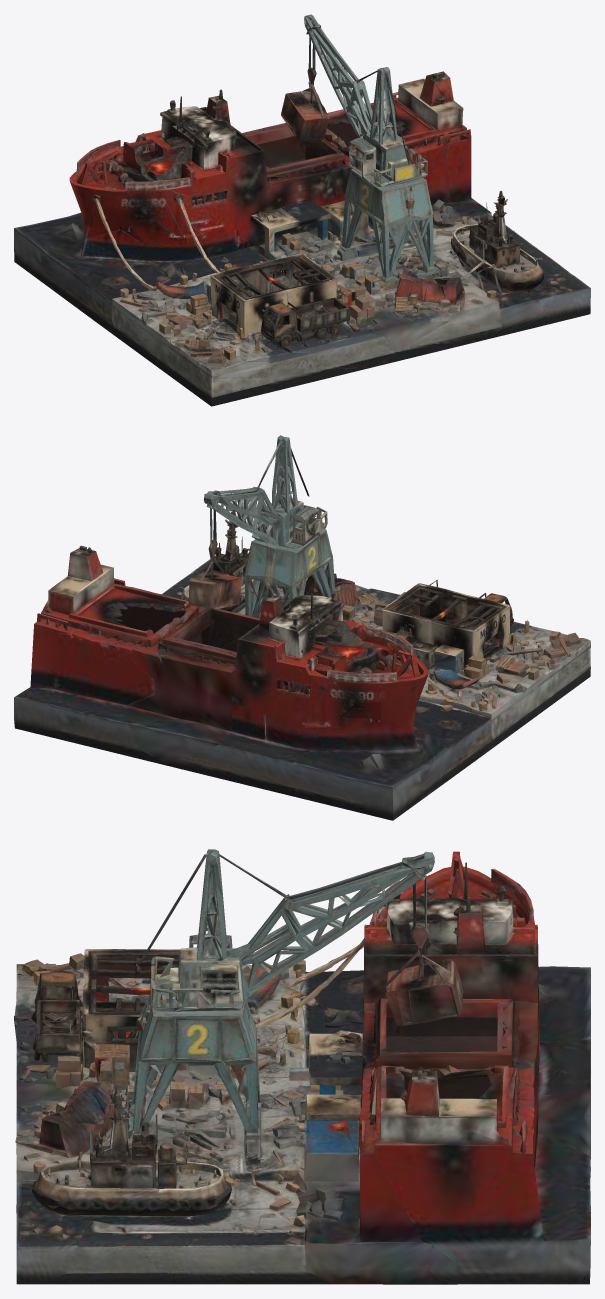
File: porto_dev.glb
3 renders of one model, top to bottom at view 1: azimuth 30°, elevation 25°; view 2: azimuth 150°, elevation 25°; view 3: azimuth 270°, elevation 25°, orthographic. The views are drawn at different scales.
Parts seen in each view (by area): view 1: output_unwrapped; view 2: output_unwrapped; view 3: output_unwrapped.
Boxes of the visible parts, box(x1,y1,x2,y2) form: output_unwrapped: box(14, 14, 590, 406); output_unwrapped: box(14, 435, 590, 820); output_unwrapped: box(14, 849, 590, 1284).
Bounding box in the file's own units: 1.9 × 1.1 × 1.72.
Materials: 1 (1 with a texture image).
